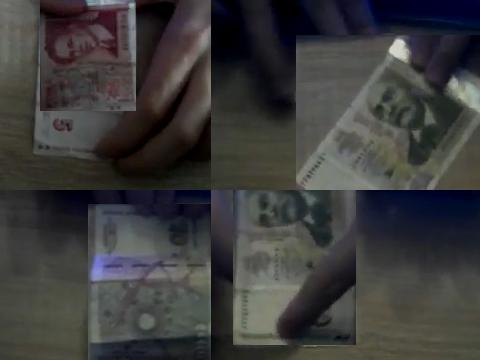10leva: (296, 35, 480, 190), (88, 204, 211, 360), (233, 190, 350, 345)
5leva: (40, 0, 136, 111)
